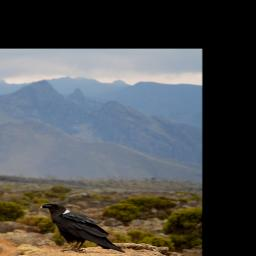Crow: (39, 201, 128, 255)
